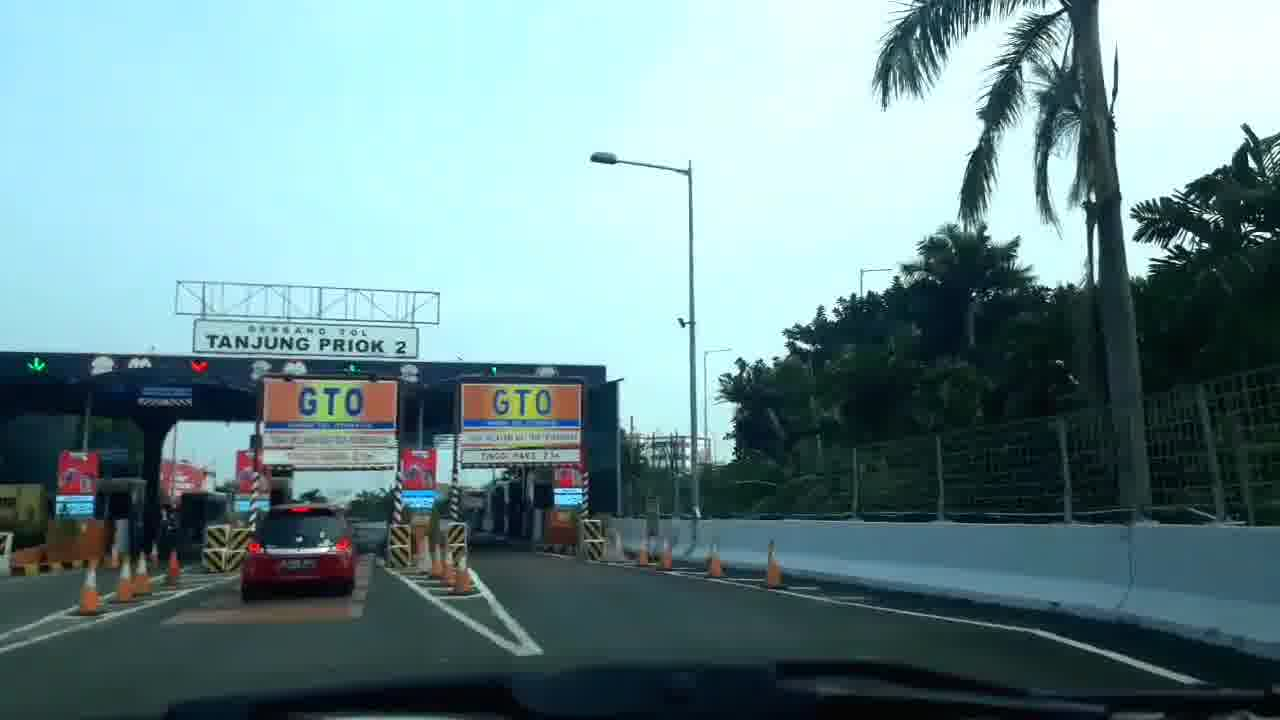plate_positive: (280, 558, 317, 571)
